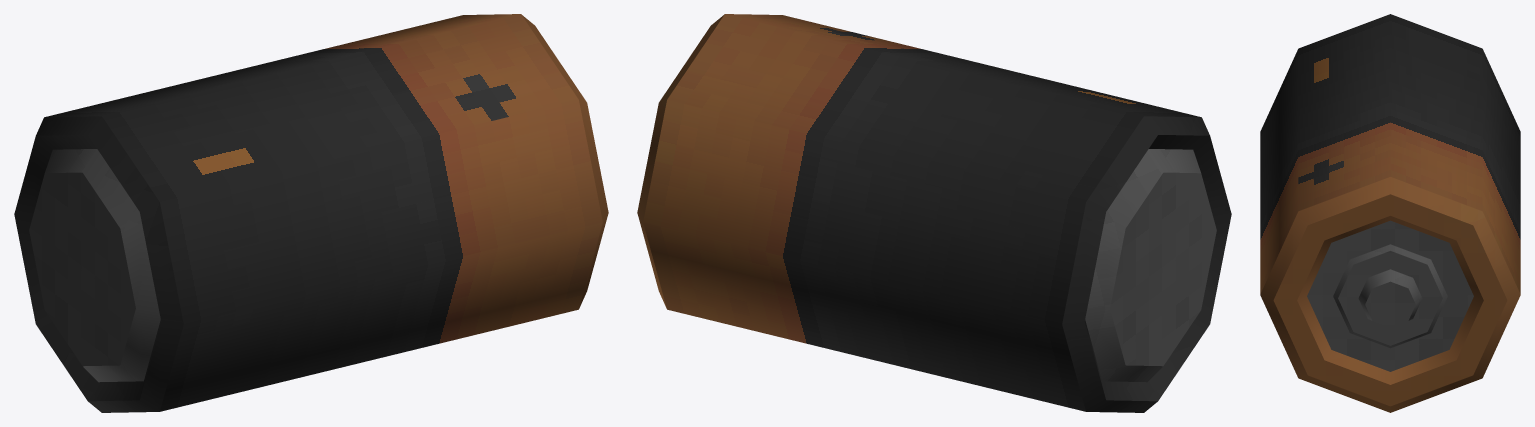
Rendered from battery_mp_2.glb.
3 renders of one model, left to right at view 1: azimuth 30°, elevation 25°; view 2: azimuth 150°, elevation 25°; view 3: azimuth 270°, elevation 25°, orthographic. The views are drawn at different scales.
Parts seen in each view (by area): view 1: battery_mp_2; view 2: battery_mp_2; view 3: battery_mp_2.
Boxes of the visible parts, x1=… form: battery_mp_2: x1=14, y1=14, x2=608, y2=412; battery_mp_2: x1=637, y1=14, x2=1231, y2=412; battery_mp_2: x1=1260, y1=14, x2=1520, y2=412.
Size of the model in its own units: 0.0883 by 0.054 by 0.054.
Materials: 1 (1 with a texture image).
